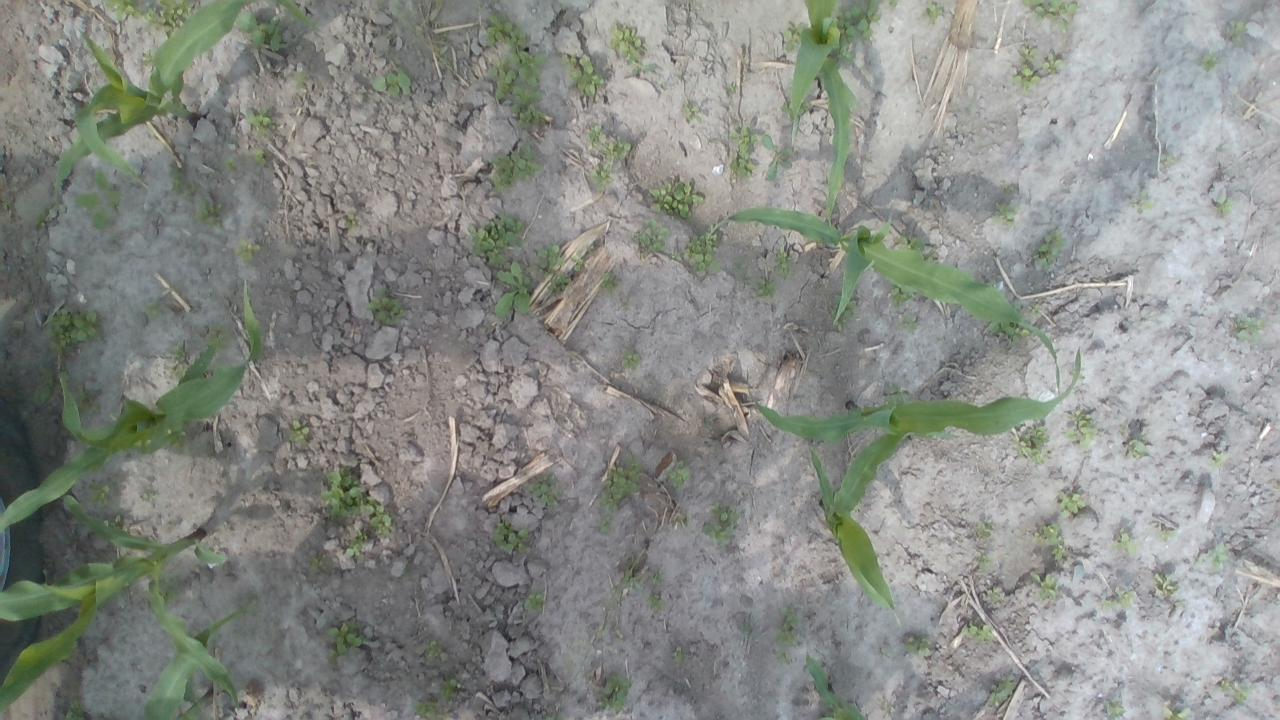Maize: (0, 285, 264, 528), (720, 204, 1061, 392), (44, 0, 317, 206), (0, 493, 237, 714), (745, 345, 1083, 448), (812, 430, 905, 618), (788, 0, 861, 217), (145, 605, 259, 720), (799, 650, 866, 720)
Weeds: (488, 50, 547, 128), (829, 0, 882, 68), (486, 140, 544, 194), (466, 214, 526, 266), (318, 466, 376, 519), (74, 169, 122, 233), (670, 220, 725, 274), (44, 306, 104, 354), (606, 22, 657, 78), (646, 179, 706, 224), (600, 460, 642, 515), (494, 262, 534, 318), (237, 9, 284, 52), (1021, 0, 1080, 34), (142, 0, 194, 36), (414, 26, 454, 72), (727, 122, 758, 180), (584, 124, 632, 160), (326, 622, 366, 664), (564, 54, 604, 96), (704, 502, 740, 548), (482, 12, 528, 48), (367, 286, 406, 326), (1031, 228, 1067, 271), (598, 672, 633, 716), (371, 66, 417, 99), (761, 135, 794, 181), (1014, 425, 1052, 464), (631, 220, 669, 257), (989, 318, 1031, 351), (1063, 410, 1097, 450), (493, 520, 530, 556), (612, 558, 644, 598), (365, 496, 394, 536), (165, 344, 198, 378), (532, 243, 564, 278), (1007, 62, 1041, 94), (28, 365, 54, 406), (774, 607, 800, 648), (1234, 314, 1267, 345), (832, 290, 856, 330), (1056, 489, 1086, 521), (1030, 520, 1064, 546), (991, 202, 1021, 231), (529, 476, 559, 504), (1122, 430, 1150, 459), (247, 107, 275, 136), (896, 230, 926, 257), (197, 198, 224, 228), (590, 162, 616, 192), (102, 0, 138, 21), (76, 386, 102, 415), (750, 276, 780, 301), (232, 238, 264, 261), (1152, 572, 1179, 599), (1111, 529, 1137, 557), (285, 418, 311, 446), (1031, 572, 1057, 600), (990, 676, 1016, 704), (772, 246, 794, 279), (1101, 589, 1137, 609), (346, 527, 368, 558), (783, 22, 808, 49), (666, 462, 690, 490), (1041, 49, 1064, 78), (438, 678, 463, 704), (201, 325, 227, 350), (415, 699, 445, 720), (964, 621, 994, 642), (890, 284, 916, 308), (904, 634, 931, 657), (167, 161, 186, 193), (158, 574, 178, 604), (547, 272, 572, 296), (87, 482, 113, 505), (1208, 542, 1228, 570), (1228, 18, 1248, 46), (1130, 191, 1154, 214), (924, 0, 945, 24), (1206, 448, 1228, 470), (681, 102, 703, 124), (896, 314, 920, 334), (526, 590, 545, 614), (1213, 196, 1233, 216), (1154, 524, 1176, 542), (65, 698, 83, 720), (1104, 699, 1126, 717), (1020, 45, 1040, 64), (100, 512, 122, 529), (622, 350, 641, 369), (975, 518, 993, 538), (422, 638, 442, 656), (34, 207, 52, 227), (600, 270, 618, 289), (254, 147, 270, 168), (1162, 706, 1186, 720), (1159, 151, 1178, 168), (1200, 52, 1216, 72), (646, 593, 666, 609), (978, 552, 992, 574), (1233, 686, 1251, 702), (919, 248, 937, 264), (311, 552, 329, 568), (571, 254, 587, 272), (649, 567, 664, 586), (1050, 543, 1066, 560), (673, 647, 687, 665), (345, 214, 359, 232), (782, 102, 794, 122), (776, 651, 792, 664), (142, 49, 154, 66), (223, 158, 239, 170), (146, 303, 158, 318), (599, 518, 611, 533), (296, 70, 304, 89), (798, 100, 808, 114), (544, 714, 567, 720), (1219, 679, 1231, 690), (2, 198, 14, 208), (1030, 302, 1040, 313), (990, 591, 1000, 602), (886, 0, 898, 9), (728, 82, 736, 94)
